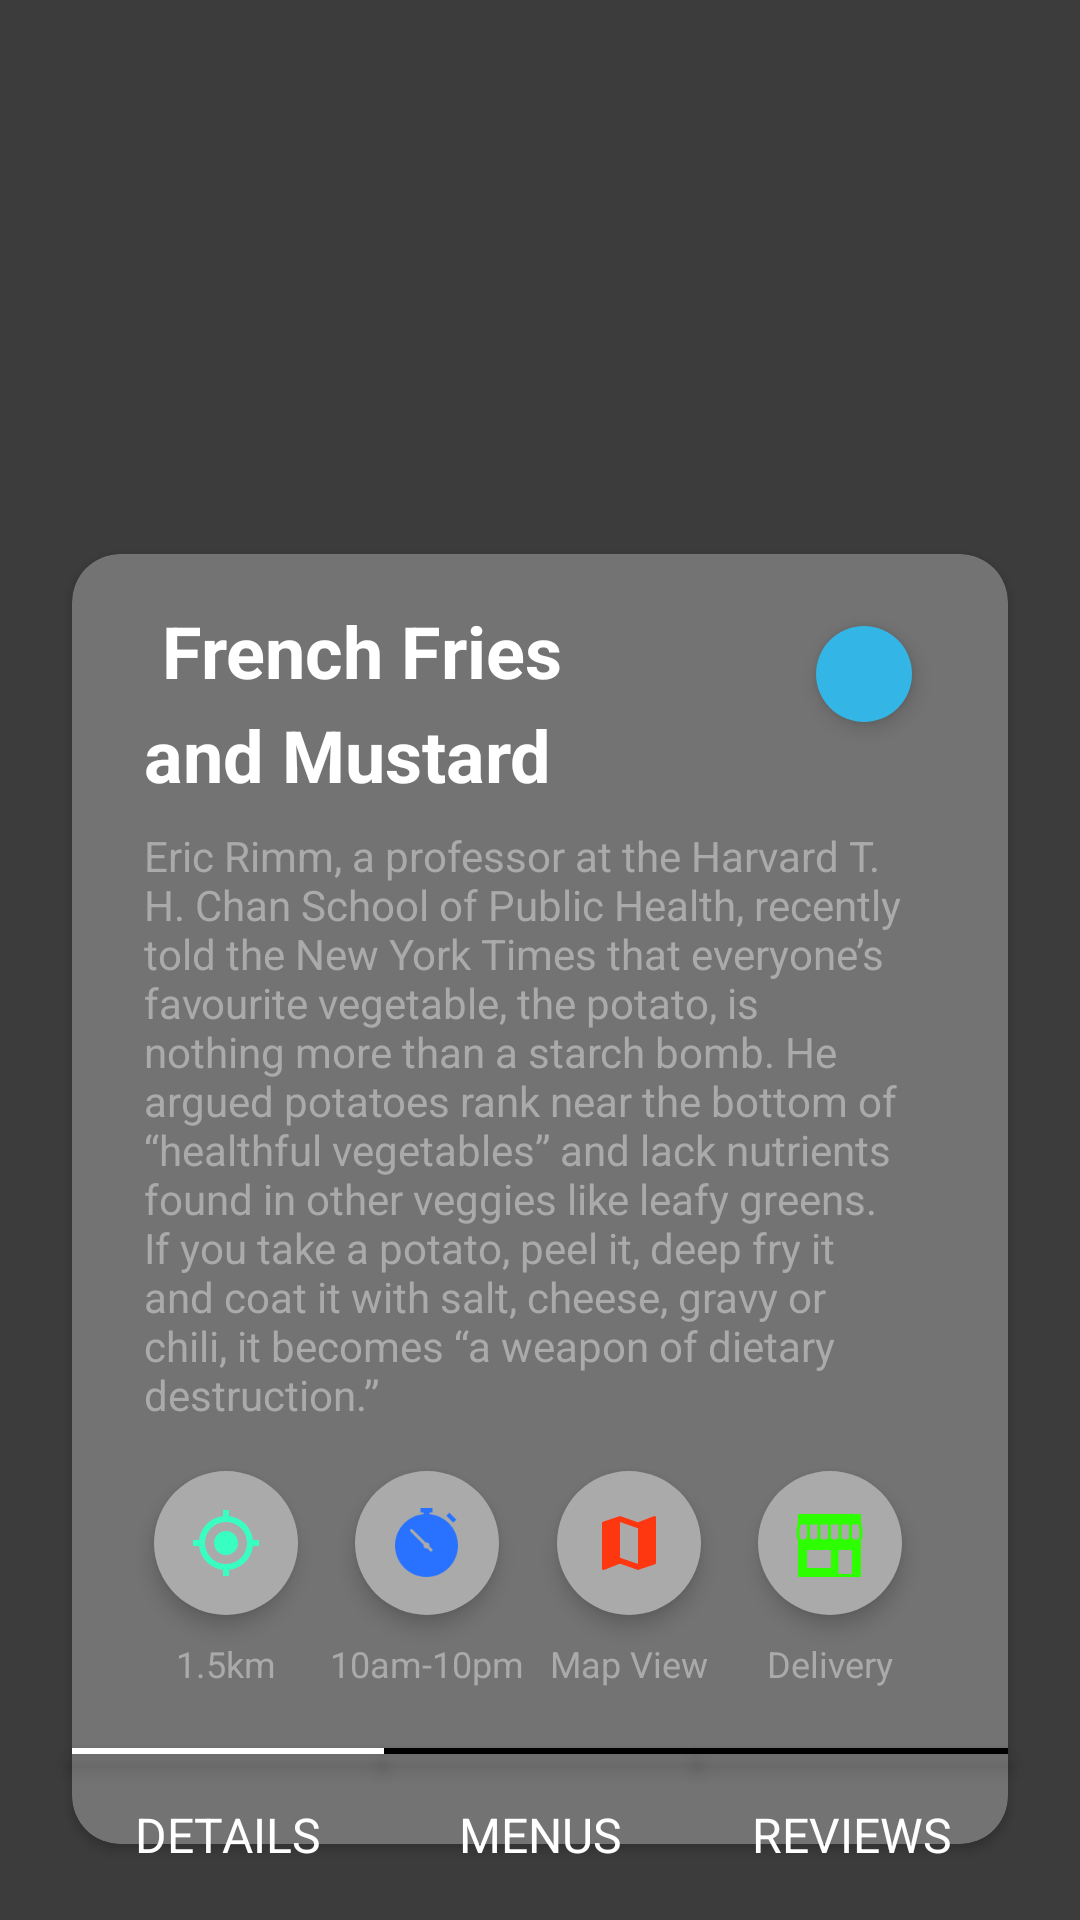

Where icons sit on this 1080px×1920px app screen, as [x1=x1, y1=y1, x2=x2, y2=y2]:
location: [x1=193, y1=1510, x2=259, y2=1576]
shop: [x1=796, y1=1514, x2=863, y2=1577]
